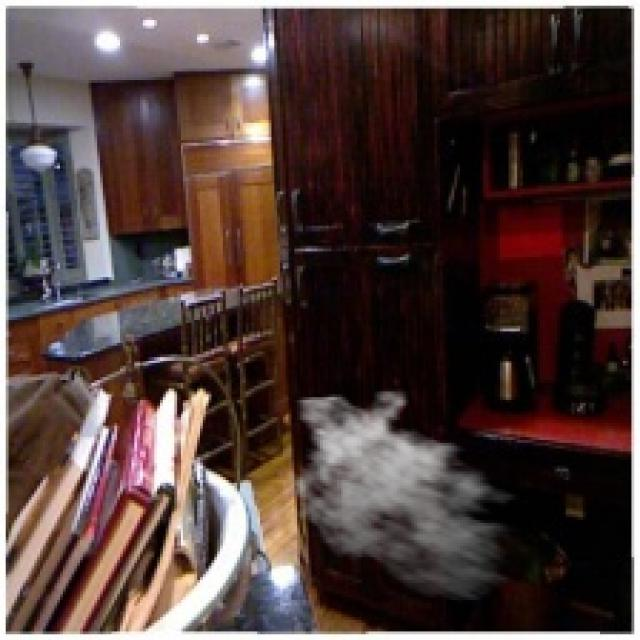smoke: (283, 388, 528, 603)
